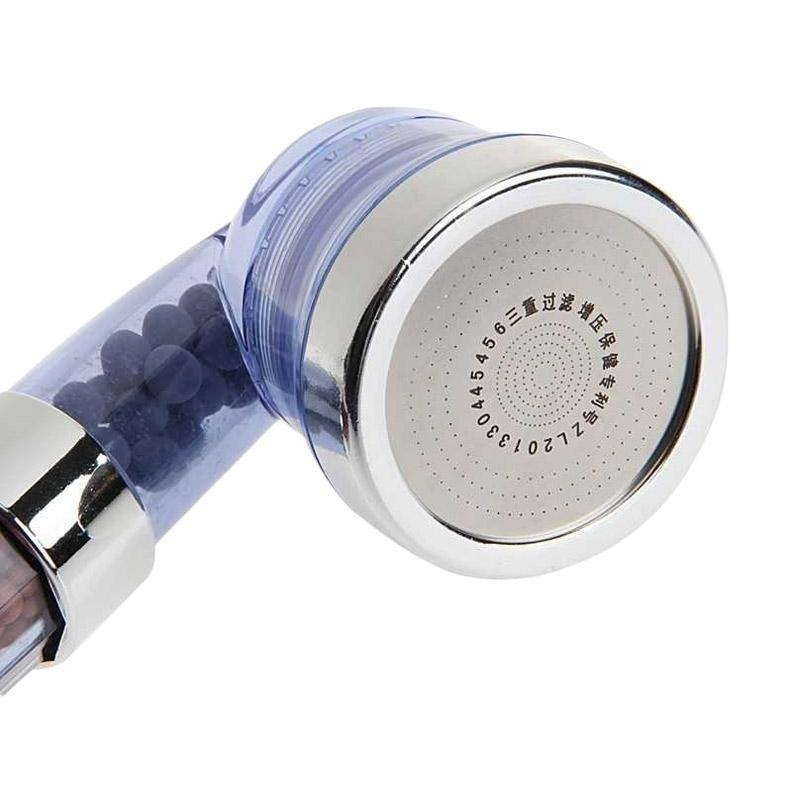Ducha: (0, 76, 747, 651)
